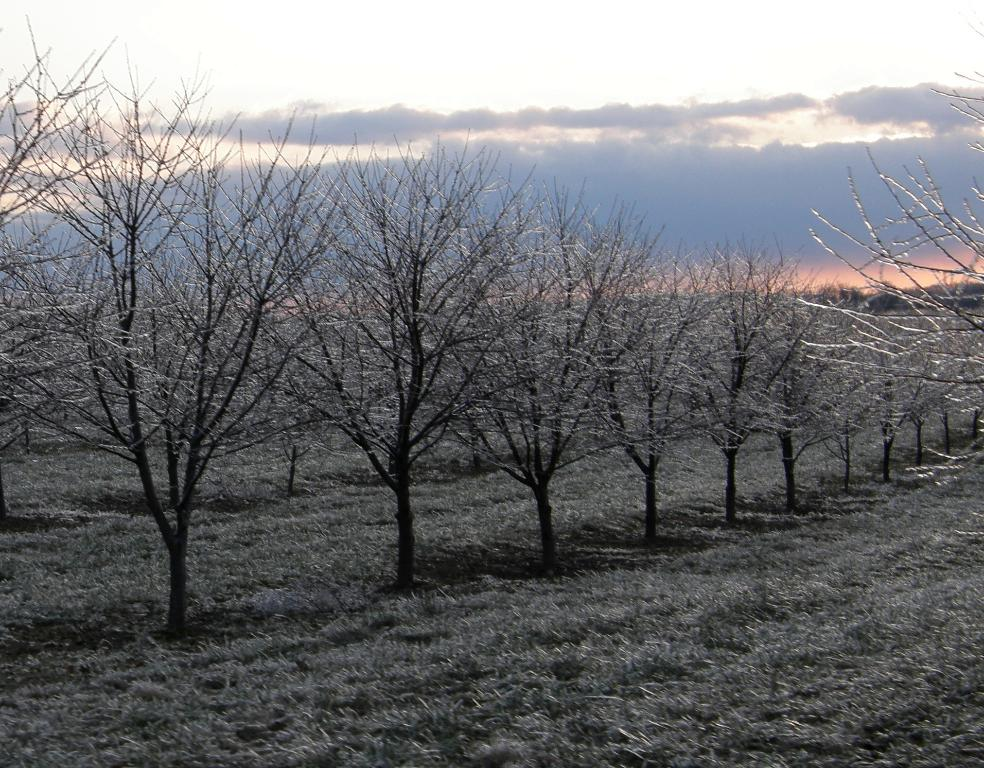Tree: (340, 124, 980, 605), (56, 41, 337, 667), (795, 11, 983, 541)
